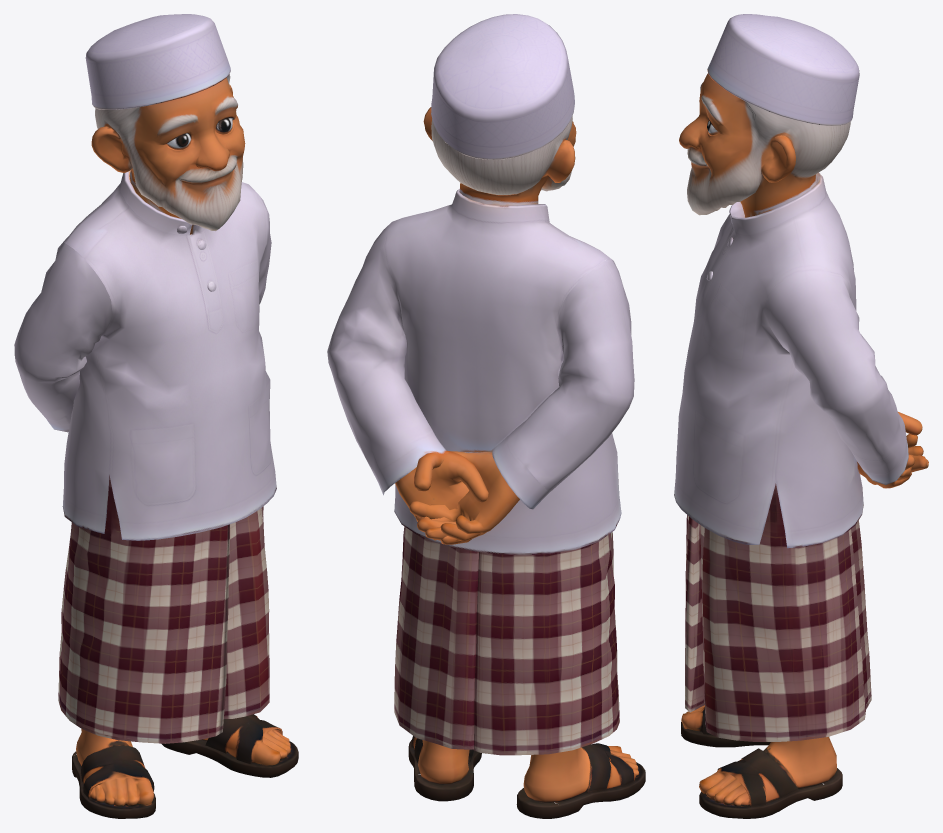
The model's file is TokAbah_source.glb.
The picture shows the model from 3 angles, left to right: view 1: azimuth 30°, elevation 25°; view 2: azimuth 150°, elevation 25°; view 3: azimuth 270°, elevation 25°; orthographic projection.
Parts seen in each view (by area): view 1: tripo_83ac6a80_e523_4834_b017_46419c3cf305; view 2: tripo_83ac6a80_e523_4834_b017_46419c3cf305; view 3: tripo_83ac6a80_e523_4834_b017_46419c3cf305.
Part boxes in pixels (bbox=[...]): tripo_83ac6a80_e523_4834_b017_46419c3cf305: bbox=[14, 14, 298, 818]; tripo_83ac6a80_e523_4834_b017_46419c3cf305: bbox=[327, 14, 645, 818]; tripo_83ac6a80_e523_4834_b017_46419c3cf305: bbox=[674, 14, 928, 818].
Size of the model in its own units: 0.3755 by 0.9995 by 0.3091.
Materials: 1 (1 with a texture image).
